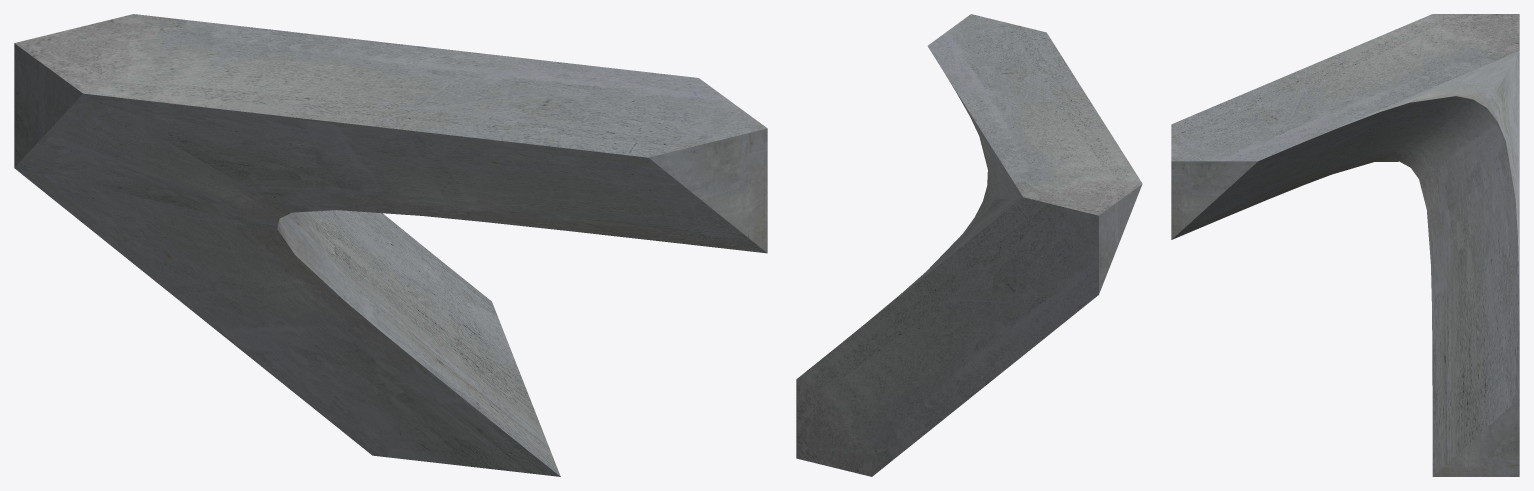
Rendered from module_K2.fbx.
3 renders of one model, left to right at view 1: azimuth 30°, elevation 25°; view 2: azimuth 150°, elevation 25°; view 3: azimuth 270°, elevation 25°, orthographic. The views are drawn at different scales.
Visible parts, largest first — view 1: modules; view 2: modules; view 3: modules.
Boxes of the visible parts, x1,y1,x2,y2 form: modules: (14, 14, 767, 476); modules: (796, 14, 1142, 476); modules: (1171, 14, 1519, 476).
Size of the model in its own units: 1000 by 1000 by 1000.
Materials: 1 (1 with a texture image).
